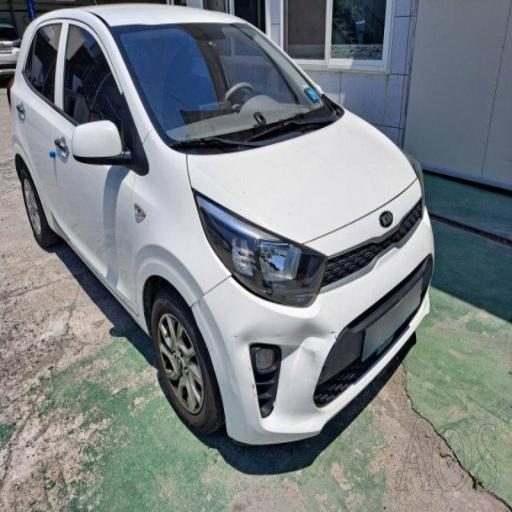dent: (218, 238, 338, 457)
